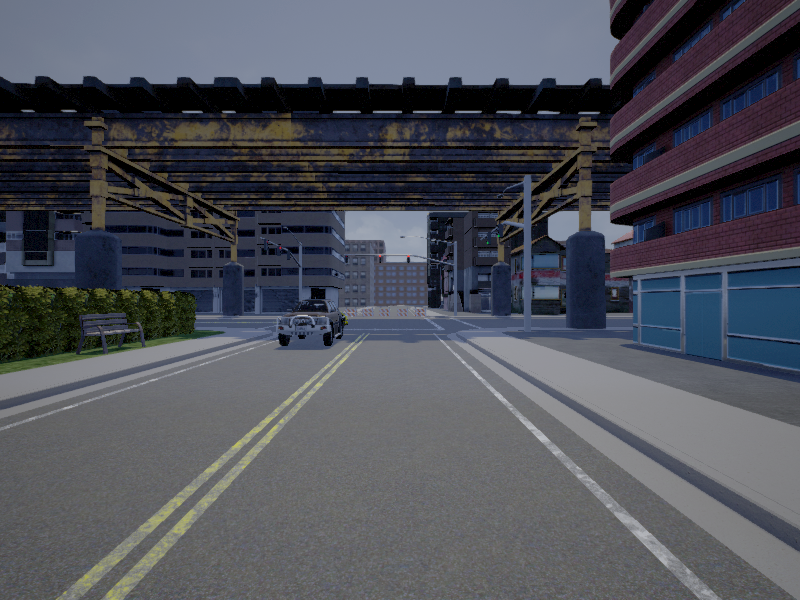Benign: (277, 301, 346, 348)
